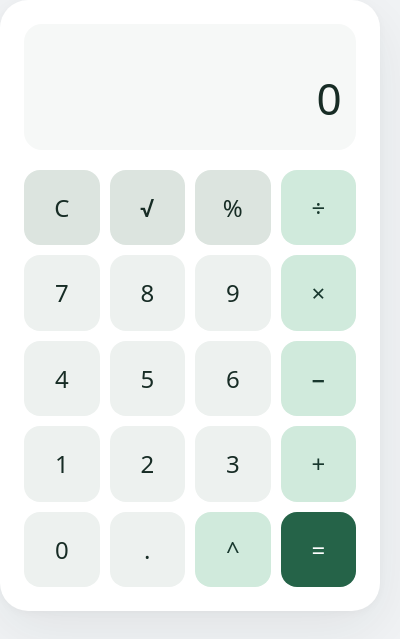
Scenario: UI4 left-to-right chaining
Click the button "2".
click(147, 464)  # box top-left (110, 426), bottom-right (185, 502)
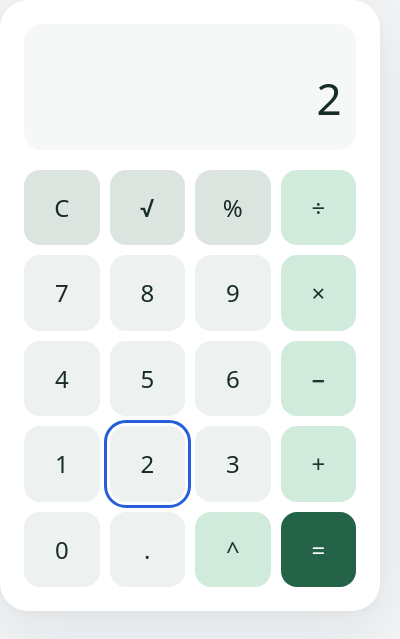
Click the button named "Add".
click(318, 464)  # box top-left (280, 426), bottom-right (356, 502)
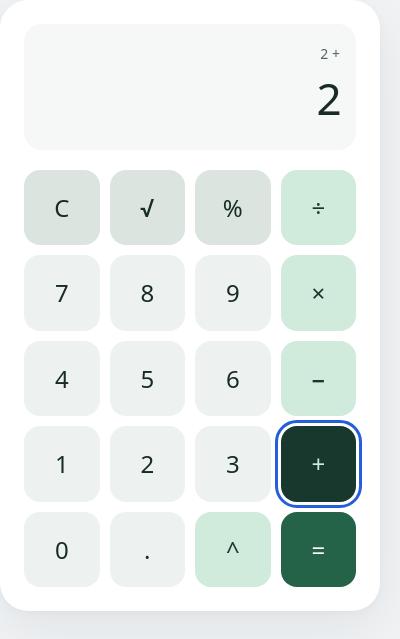
Click the button "3".
click(233, 464)  # box top-left (195, 426), bottom-right (270, 502)
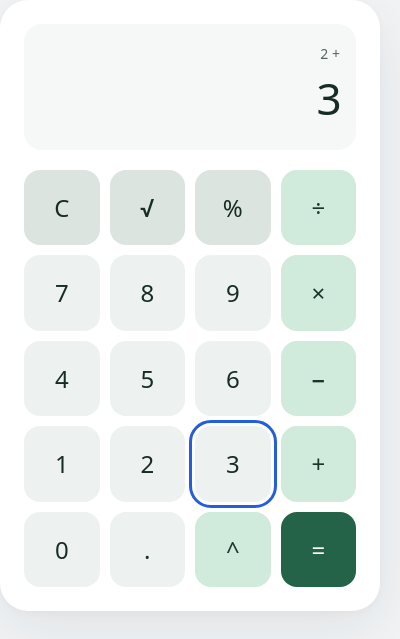
Click the button named "Multiply".
click(318, 293)  # box top-left (280, 255), bottom-right (356, 331)
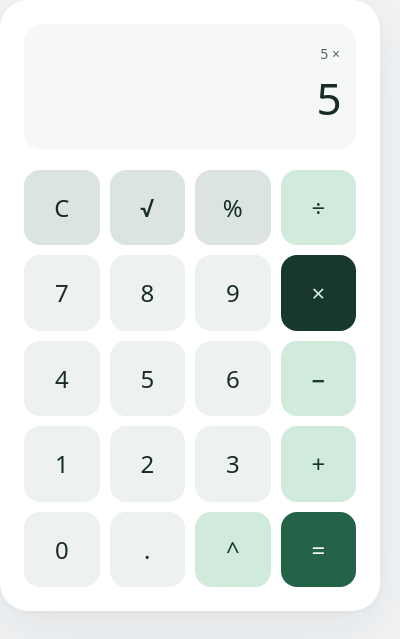
Expected: the message reads "5", top-left (317, 68), bottom-right (340, 128)
Expected: the text with test id "expression" reads "5 ×", top-left (320, 44), bottom-right (340, 63)
Click the button "4".
click(62, 378)  # box top-left (24, 341), bottom-right (100, 416)
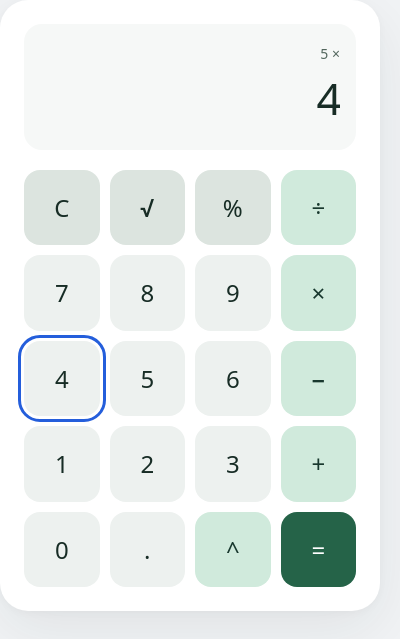
Click the button named "Equals".
click(318, 549)  # box top-left (280, 512), bottom-right (356, 587)
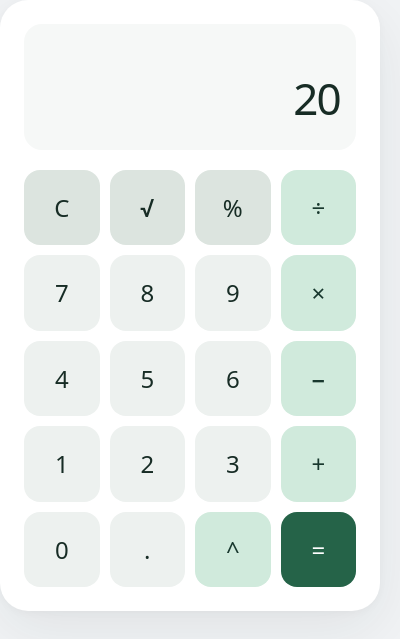
Expected: the message reads "20", top-left (293, 68), bottom-right (340, 128)
